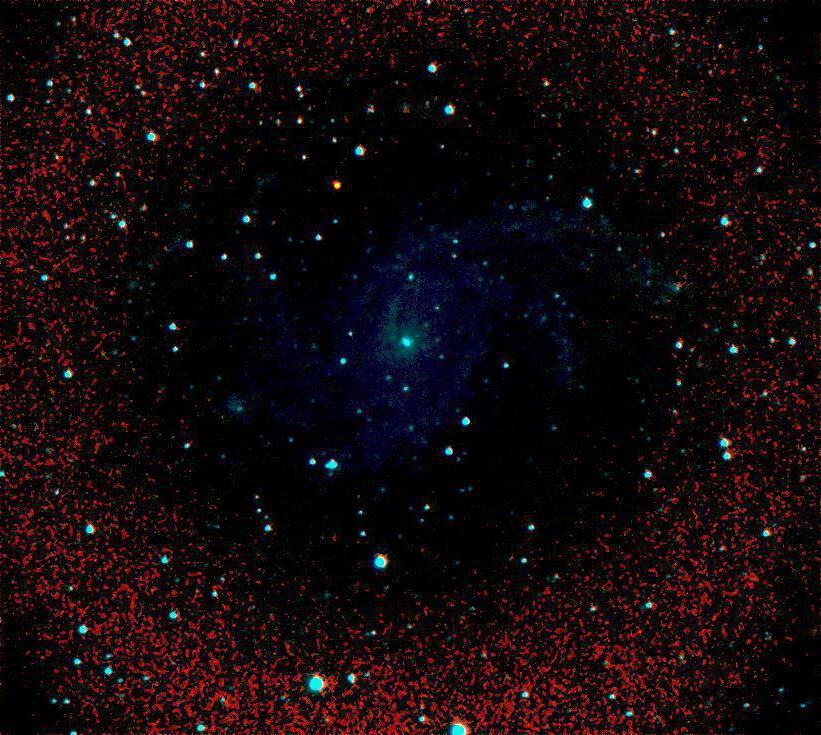star: (325, 168, 355, 198)
